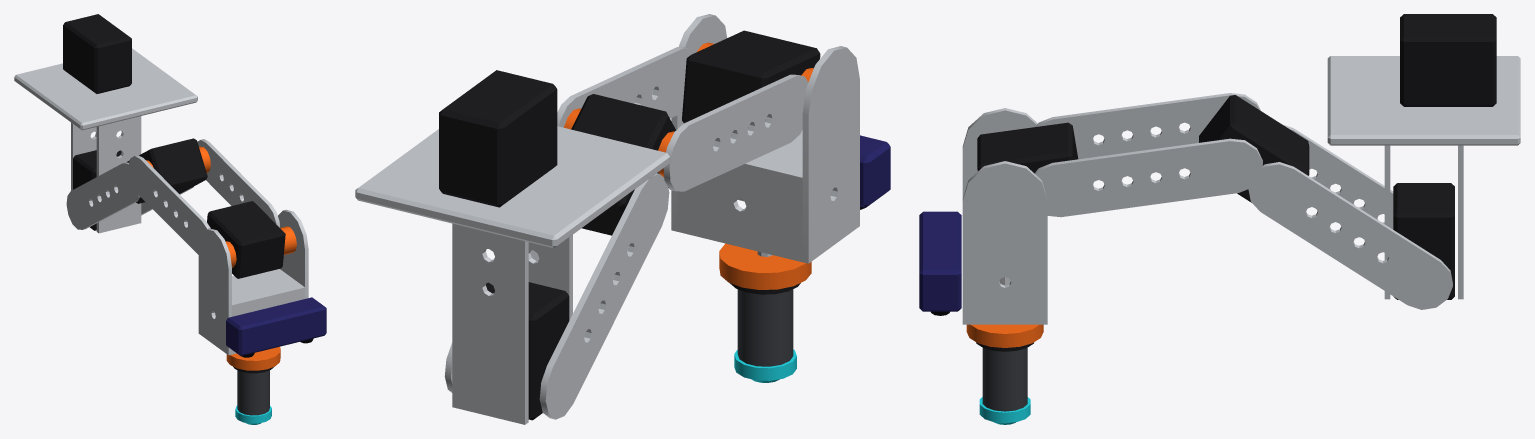
Rendered from RobotArm.fbx.
The picture shows the model from 3 angles, left to right: view 1: azimuth 30°, elevation 25°; view 2: azimuth 150°, elevation 25°; view 3: azimuth 270°, elevation 25°; orthographic projection. The views are drawn at different scales.
Visible parts, largest first — view 1: ArmMount, Elbow, Wrist, Shoulder, Turret, Camera_CloseUpStereo, Tool_Scanner, ToolRoll; view 2: ArmMount, Wrist, Elbow, Turret, Shoulder, Tool_Scanner, ToolRoll, Camera_CloseUpStereo; view 3: Elbow, ArmMount, Shoulder, Wrist, Turret, Camera_CloseUpStereo, Tool_Scanner, ToolRoll.
Boxes of the visible parts, x1,y1,x2,y2 form: ArmMount: (14,14,197,130); Elbow: (128,139,285,278); Wrist: (198,209,308,355); Shoulder: (66,138,207,229); Turret: (71,116,141,233); Camera_CloseUpStereo: (226,297,326,357); Tool_Scanner: (235,370,271,424); ToolRoll: (226,347,280,370); ArmMount: (355,70,669,248); Wrist: (671,14,859,263); Elbow: (557,30,820,191); Turret: (452,223,572,424); Shoulder: (444,94,676,419); Tool_Scanner: (734,289,796,382); ToolRoll: (719,243,811,289); Camera_CloseUpStereo: (860,135,890,209); Elbow: (977,93,1262,217); ArmMount: (1327,14,1520,145); Shoulder: (1199,95,1452,309); Wrist: (962,108,1047,324); Turret: (1384,145,1463,299); Camera_CloseUpStereo: (919,211,961,315); Tool_Scanner: (979,348,1030,424); ToolRoll: (966,277,1043,347).
Bounding box in the file's own units: 0.1 × 0.225 × 0.3115.
